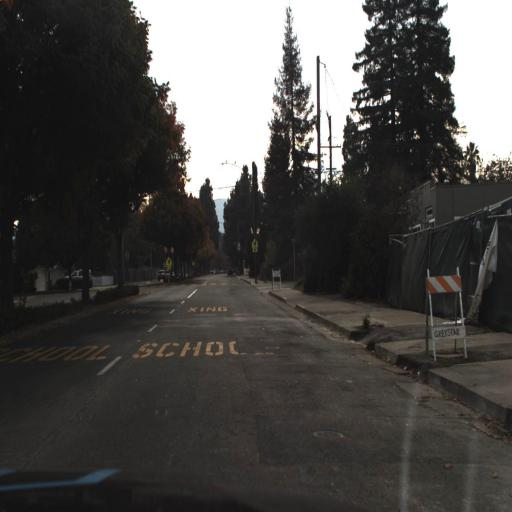car: (60, 266, 96, 288)
